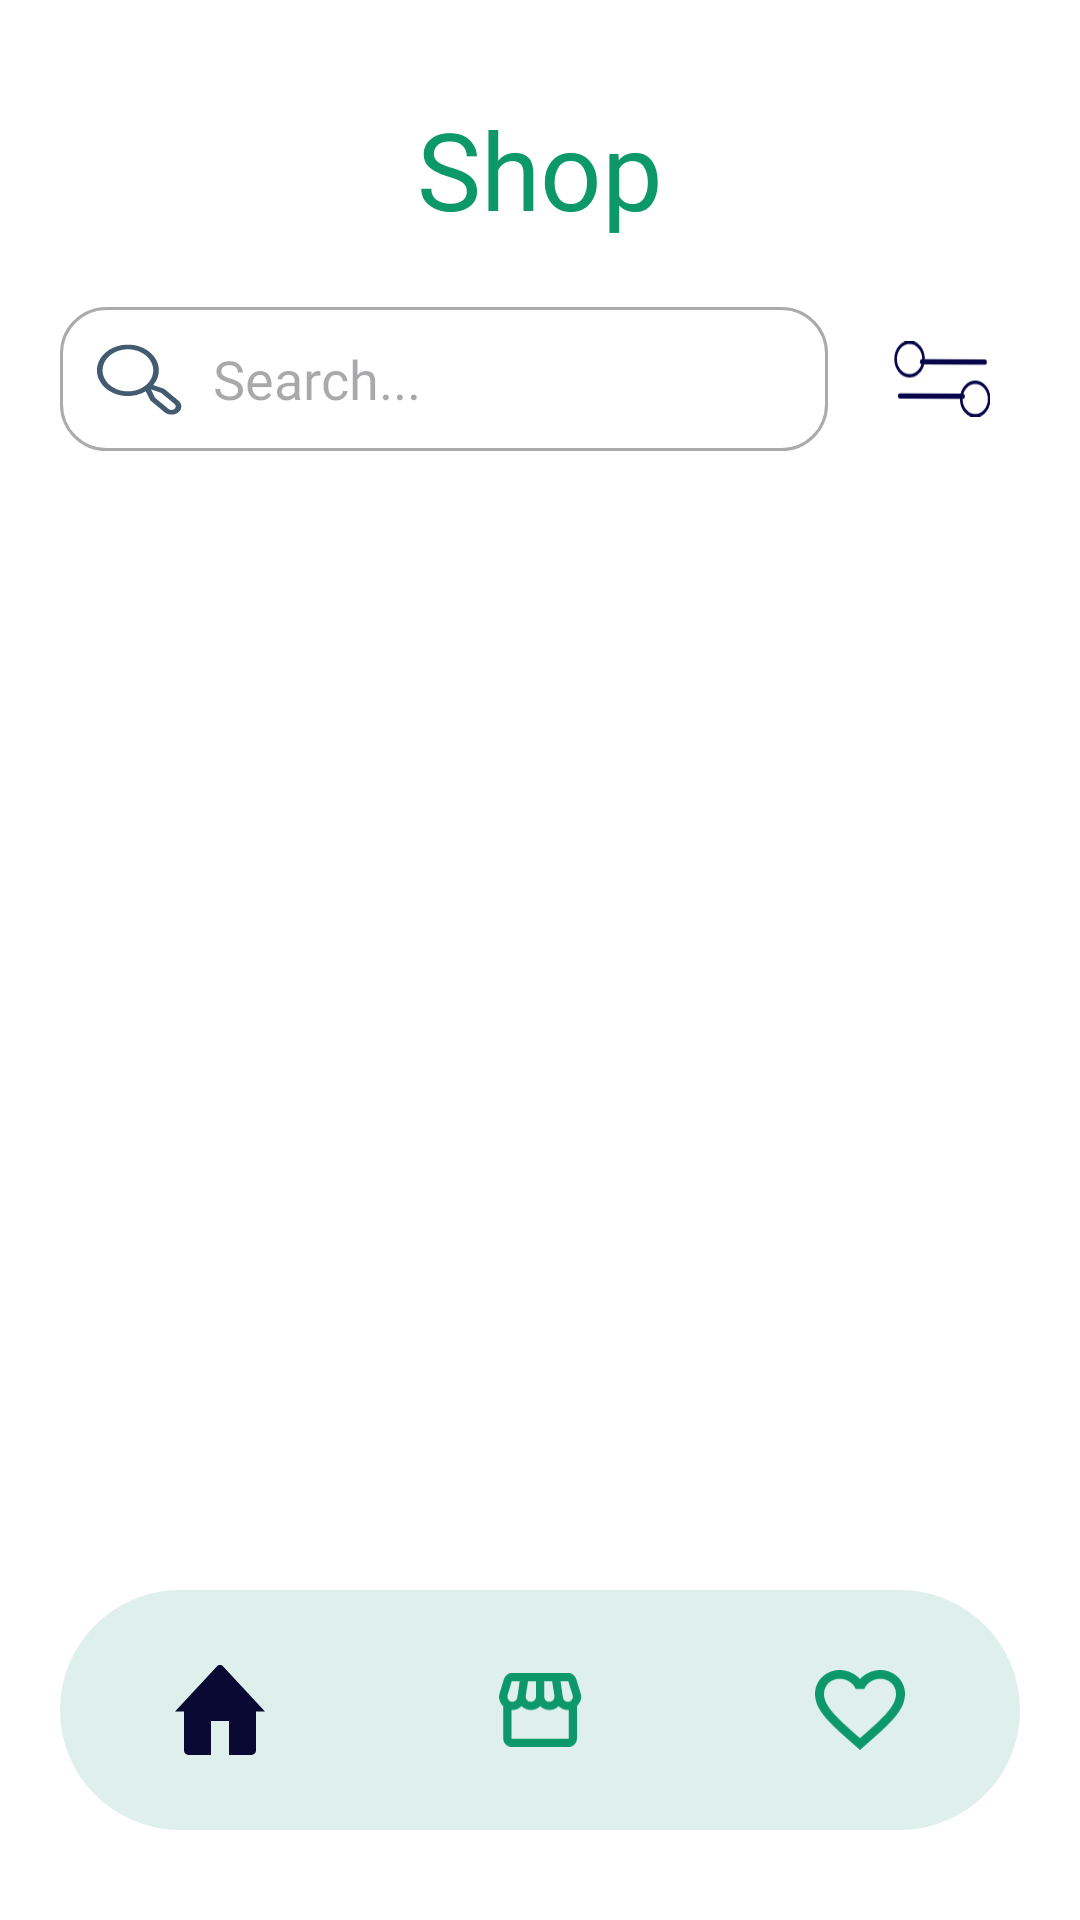

Named icons in this screenshot (1080 × 1920) and their centers, (x,y):
Filter icon: (942,379)
